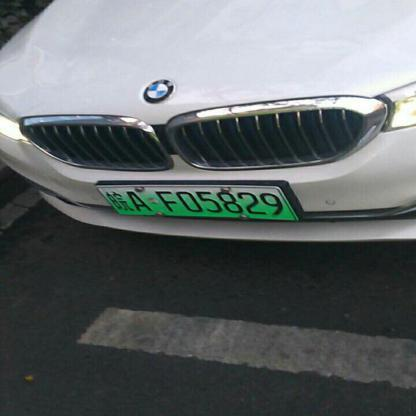lp: (96, 184, 296, 219)
